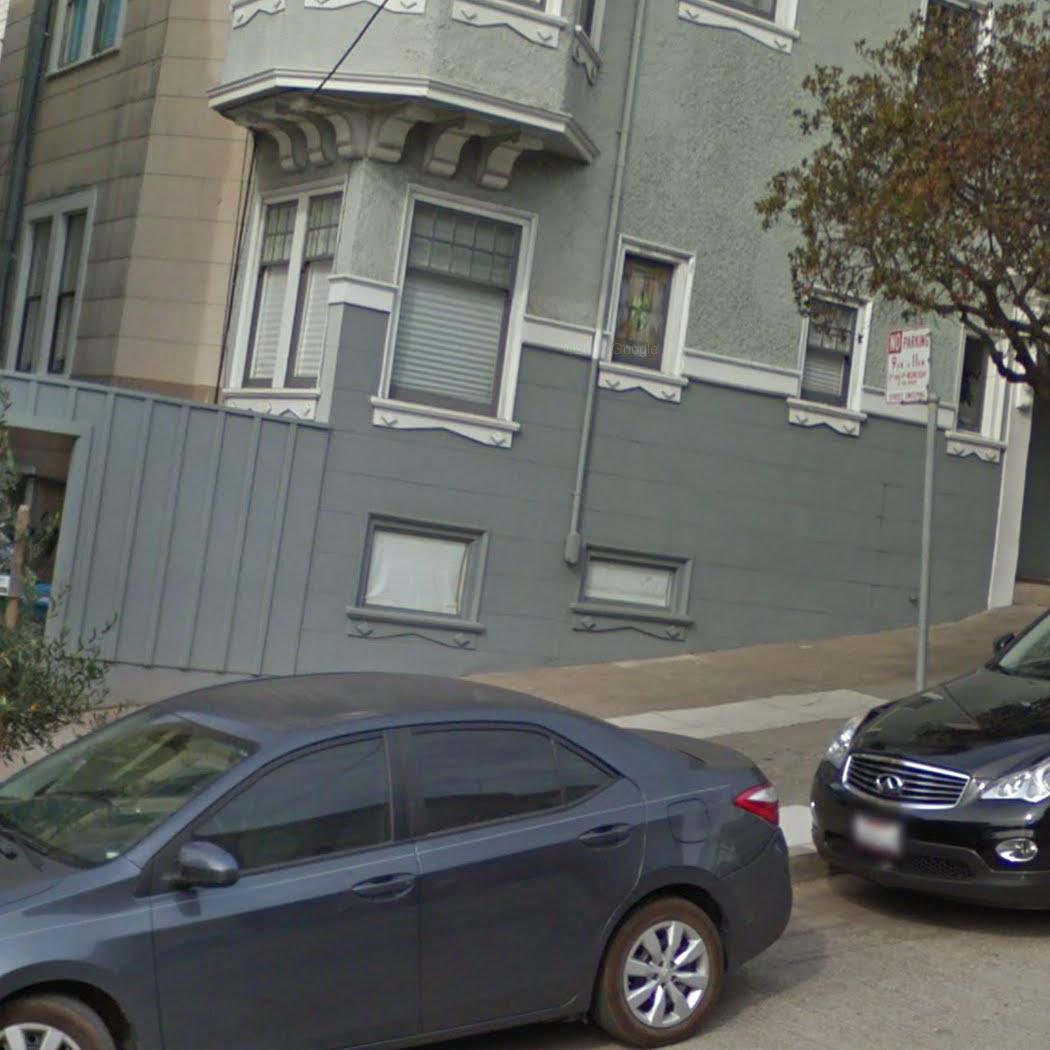No Parking: (883, 325, 935, 406)
